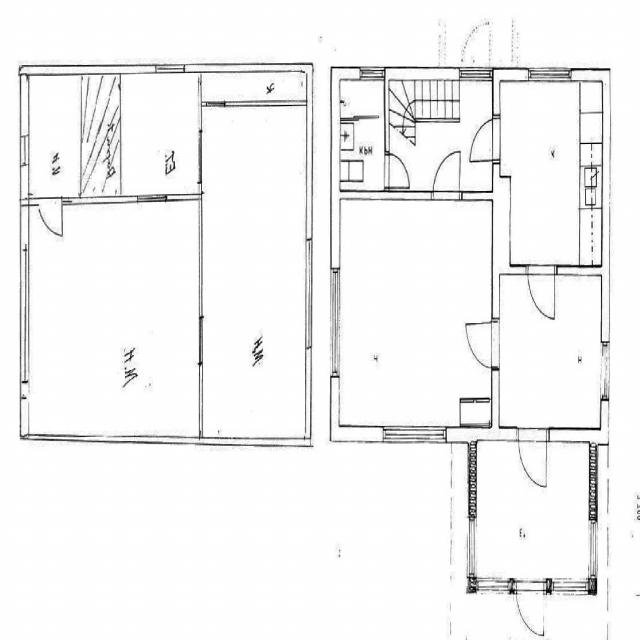door: (519, 428, 547, 487), (516, 579, 544, 637), (465, 322, 500, 368), (528, 266, 555, 318), (467, 118, 500, 160), (434, 149, 459, 199), (40, 191, 62, 234), (384, 154, 408, 188)
